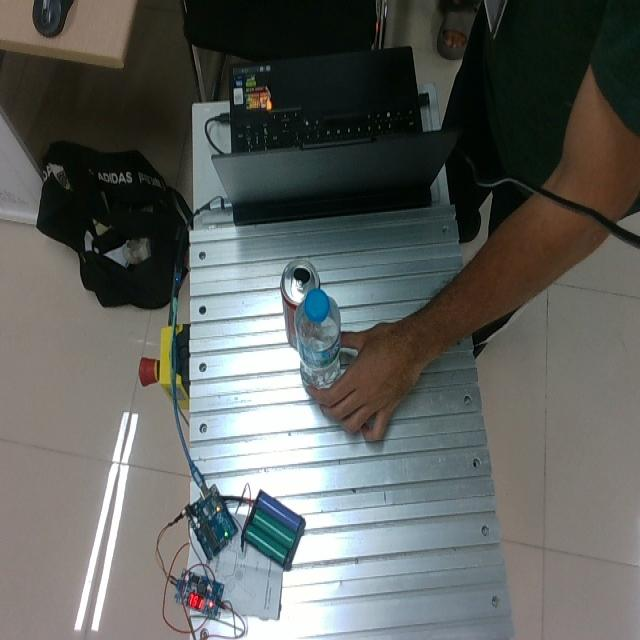coca: (280, 259, 320, 353)
lavie: (293, 290, 342, 390)
